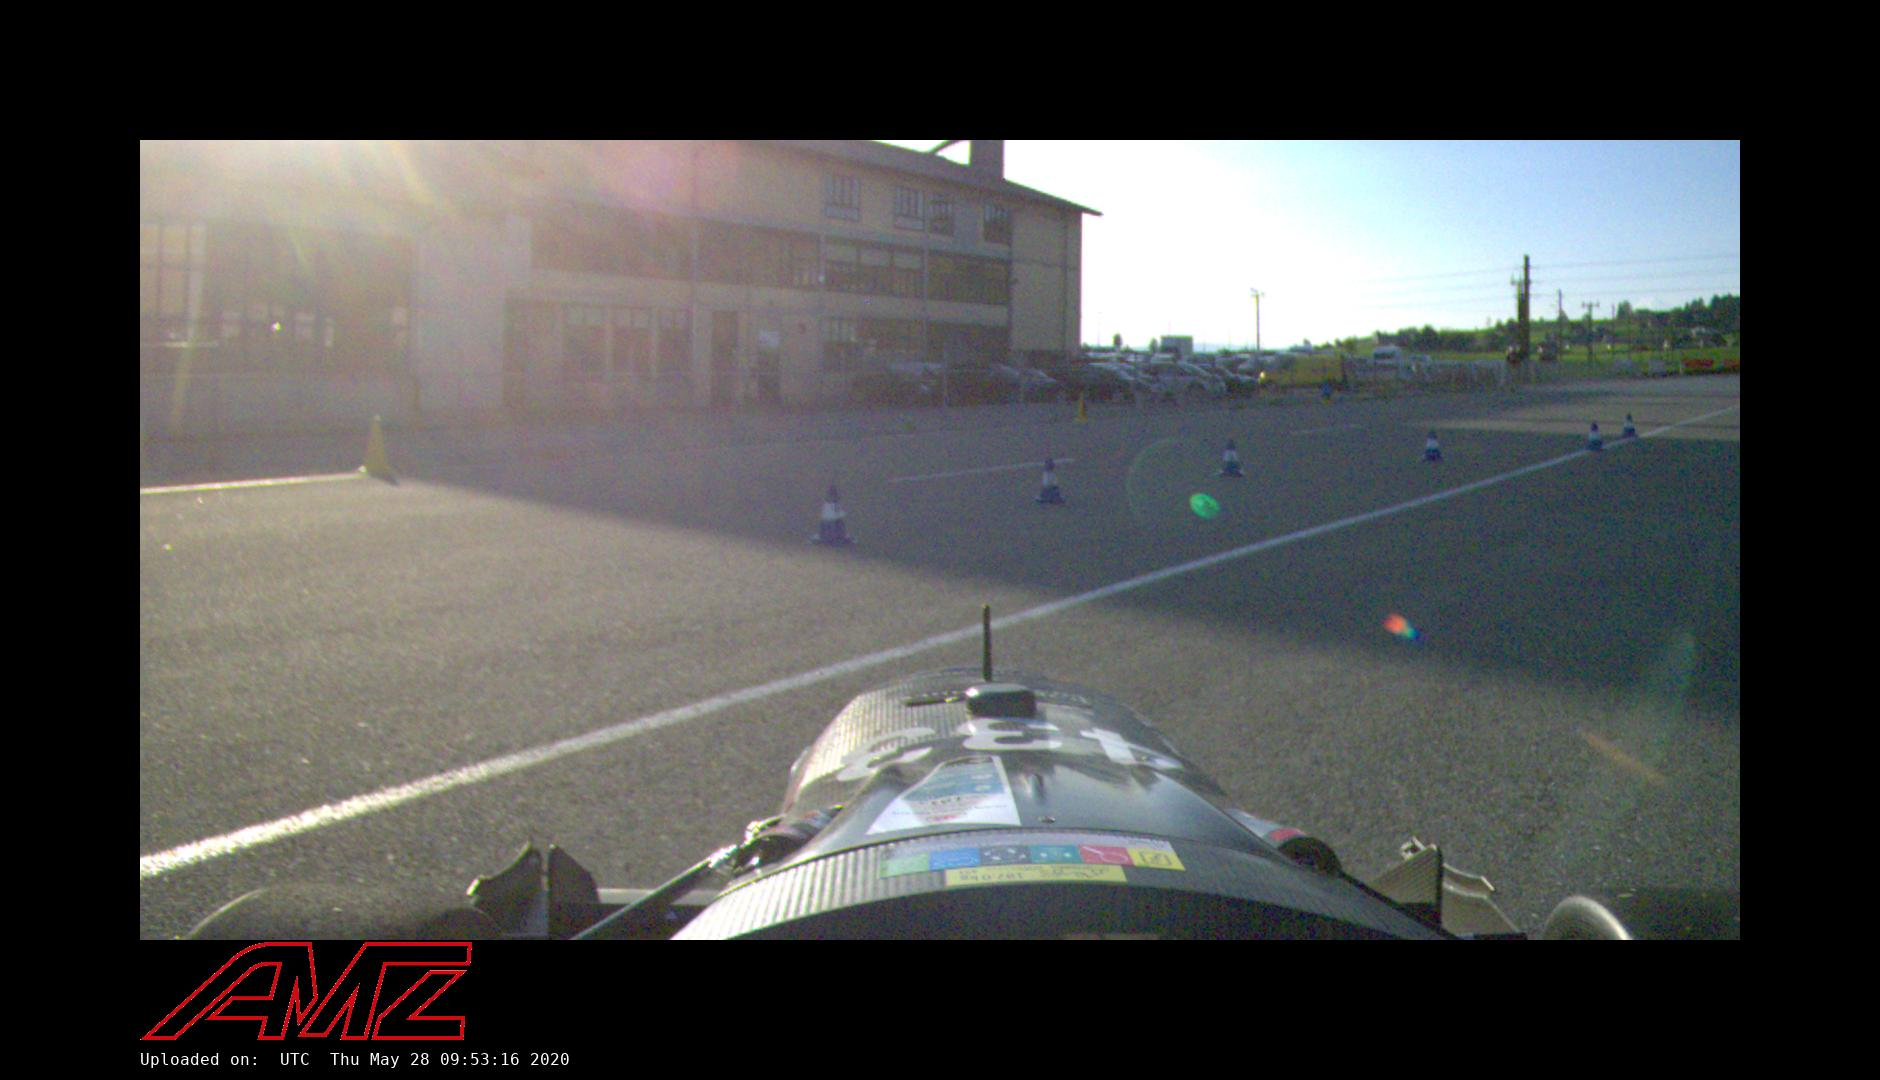blue_cone: (806, 481, 858, 552), (1036, 456, 1069, 505), (1213, 438, 1248, 481), (1418, 429, 1448, 467), (1584, 420, 1609, 454), (1619, 412, 1640, 441)
yellow_cone: (355, 414, 398, 479), (1072, 394, 1093, 425)
